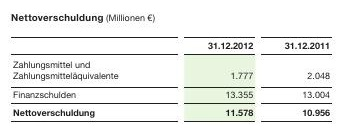table: (0, 0, 346, 131)
